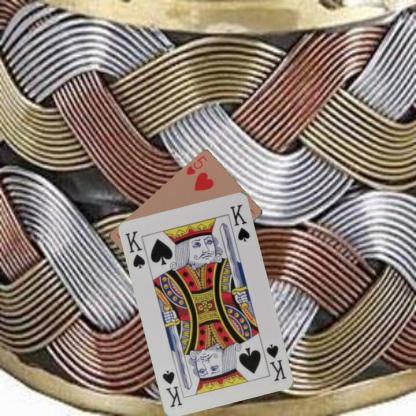5h: (184, 154, 208, 177)
Ks: (122, 228, 147, 270), (264, 341, 288, 383)
